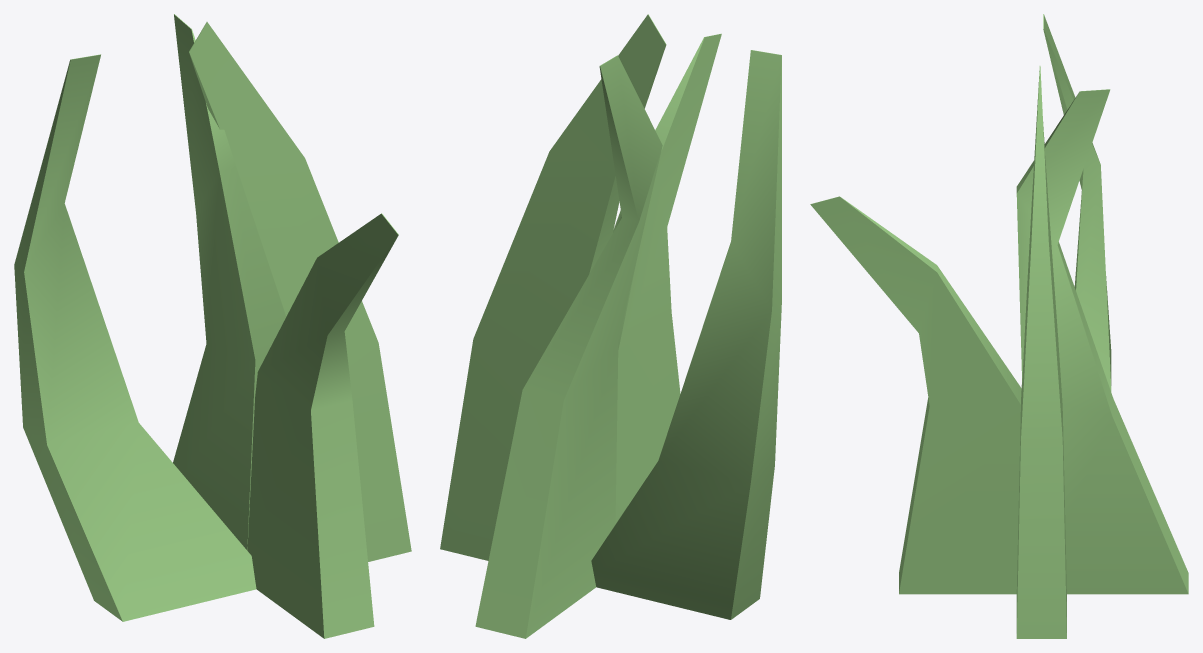
Rendered from grass9.fbx.
3 views of the same model, side by side, from view 1: azimuth 30°, elevation 25°; view 2: azimuth 150°, elevation 25°; view 3: azimuth 270°, elevation 25° (orthographic). The views are drawn at different scales.
Parts seen in each view (by area): view 1: pCube78, pCube46, pCube47, pCube77; view 2: pCube78, pCube47, pCube77, pCube46; view 3: pCube46, pCube47, pCube77, pCube78.
Boxes of the visible parts, <box> form: pCube78: <box>14,54,256,621</box>; pCube46: <box>247,213,398,638</box>; pCube47: <box>173,14,286,550</box>; pCube77: <box>189,22,411,561</box>; pCube78: <box>591,50,781,619</box>; pCube47: <box>475,55,662,638</box>; pCube77: <box>440,14,666,560</box>; pCube46: <box>615,33,721,523</box>; pCube46: <box>810,196,1021,594</box>; pCube47: <box>1016,89,1188,594</box>; pCube77: <box>1016,66,1066,638</box>; pCube78: <box>1043,14,1111,391</box>.
Size of the model in its own units: 1.7 by 2.64 by 1.84.
